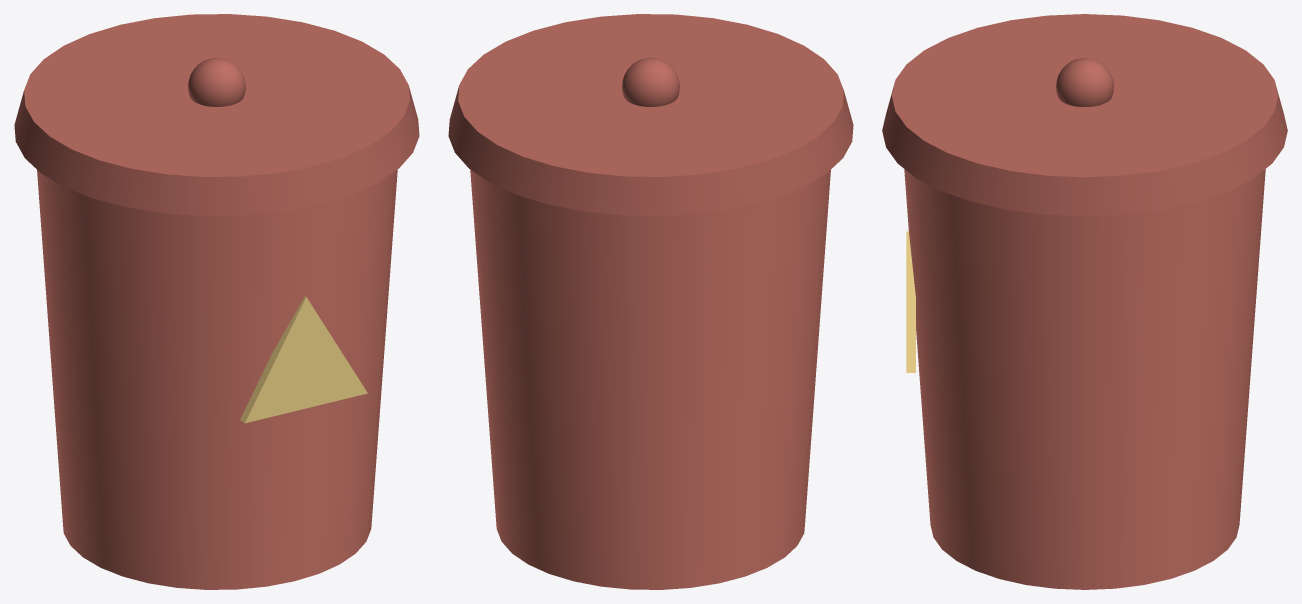
File: waste_bin.glb
The picture shows the model from 3 angles, left to right: view 1: azimuth 30°, elevation 25°; view 2: azimuth 150°, elevation 25°; view 3: azimuth 270°, elevation 25°; orthographic projection.
Visible parts, largest first — view 1: waste_bin; view 2: waste_bin; view 3: waste_bin.
Part boxes in pixels (x1,y1,x2,y2): waste_bin: [14, 14, 419, 589]; waste_bin: [448, 14, 853, 589]; waste_bin: [882, 14, 1287, 589].
Size of the model in its own units: 0.84 by 1.06 by 0.84.
